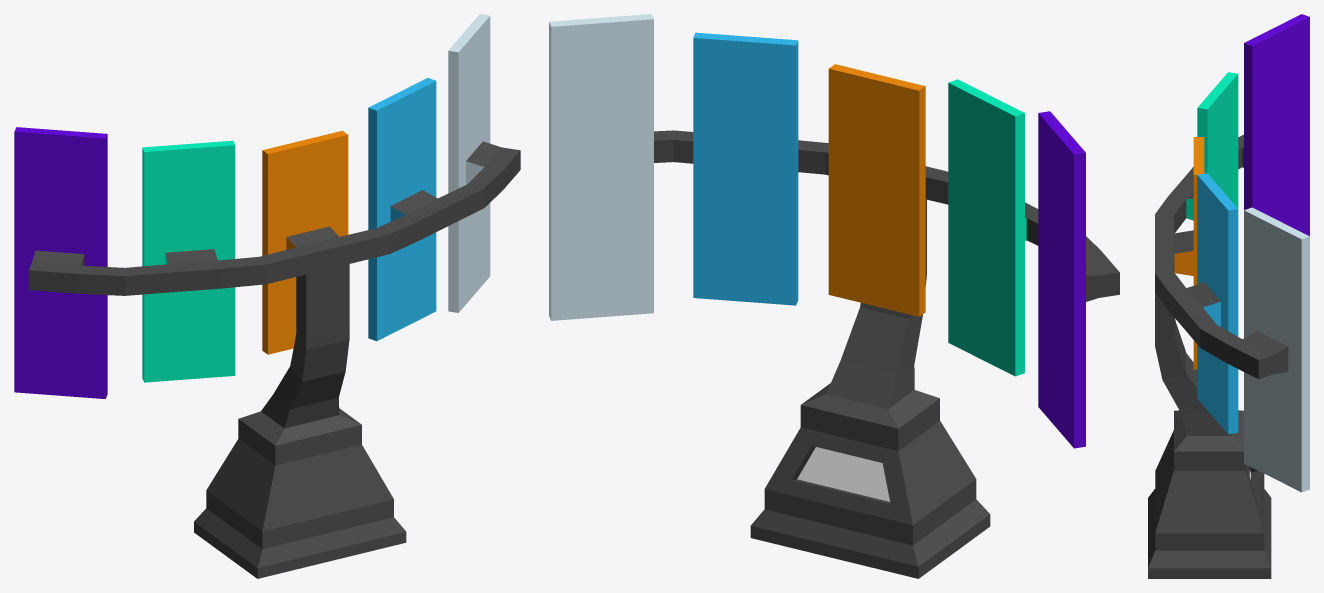
File: IntactLiminalStatue.fbx
3 renders of one model, left to right at view 1: azimuth 30°, elevation 25°; view 2: azimuth 150°, elevation 25°; view 3: azimuth 270°, elevation 25°, orthographic. The views are drawn at different scales.
Visible parts, largest first — view 1: Statue; view 2: Statue; view 3: Statue.
Boxes of the visible parts, left/top/right/bottom form: Statue: left=14, top=14, right=520, bottom=578; Statue: left=549, top=14, right=1119, bottom=578; Statue: left=1148, top=14, right=1309, bottom=578.
Bounding box in the file's own units: 23.26 × 19.39 × 6.83.
